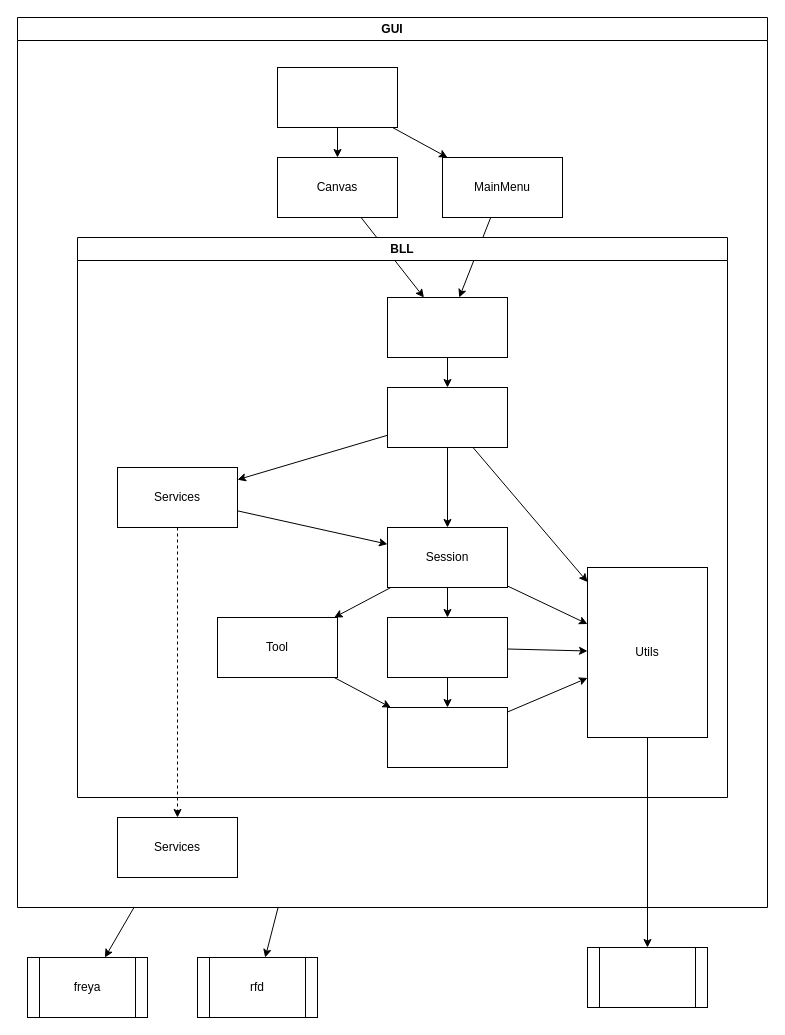
This 785x1035 diagram has some shape labels left out. The centre of each missing label's shape, as x and y in pixels:
"Command" belongs at point (447, 417).
"Console" belongs at point (447, 327).
"Layer" belongs at point (447, 737).
"MainWindow" belongs at point (337, 97).
"Project" belongs at point (447, 647).
"skia-safe" belongs at point (647, 977).
